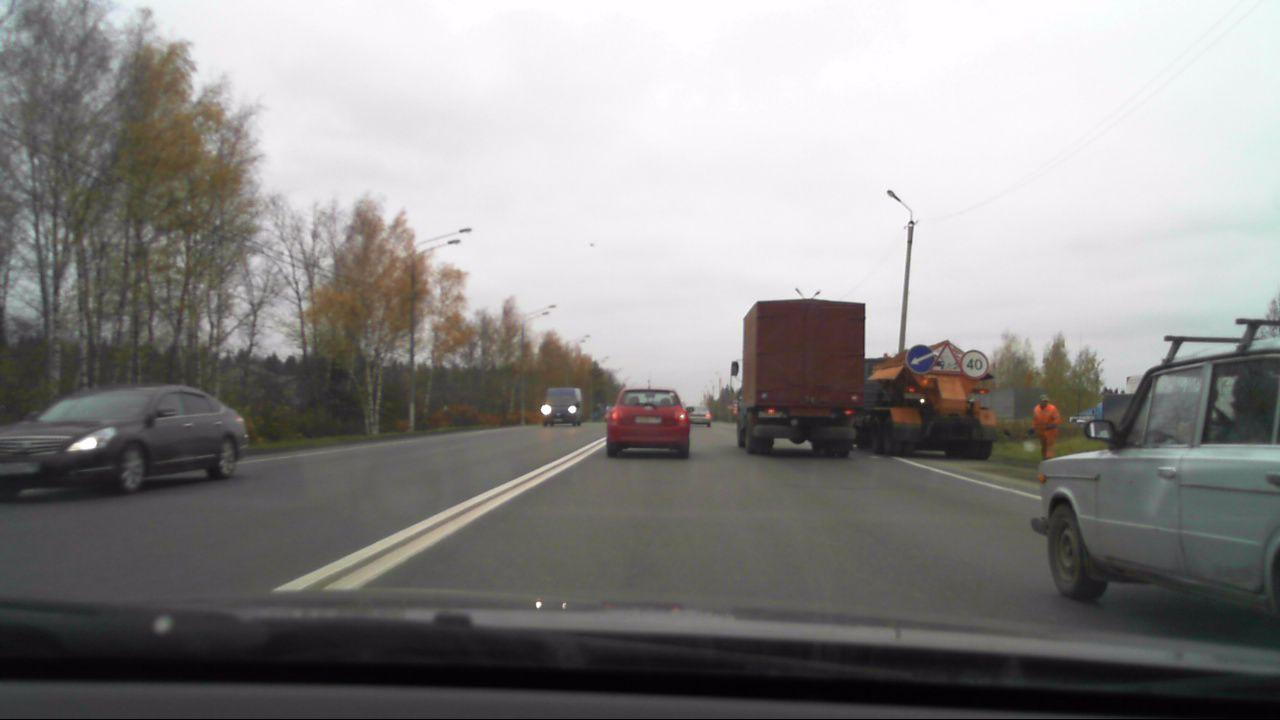1_18: (932, 342, 962, 376)
3_24: (962, 347, 987, 380)
4_2_2: (907, 344, 933, 374)
